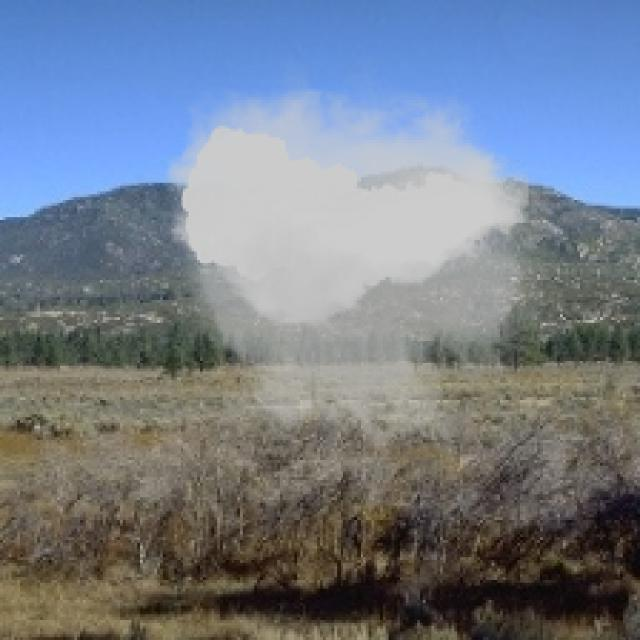Smoke: (155, 57, 554, 474)
